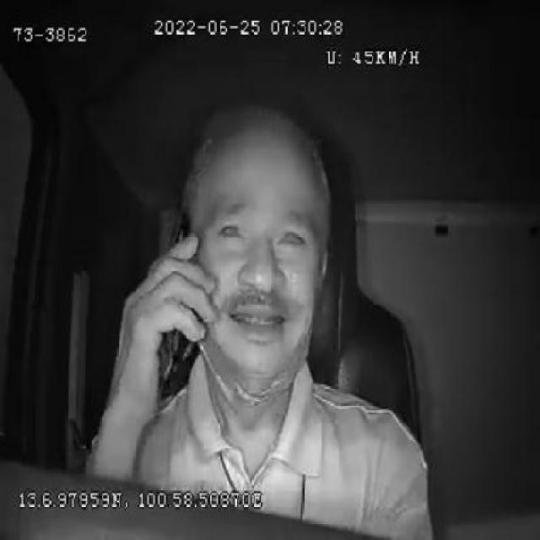phone: (156, 213, 198, 396)
